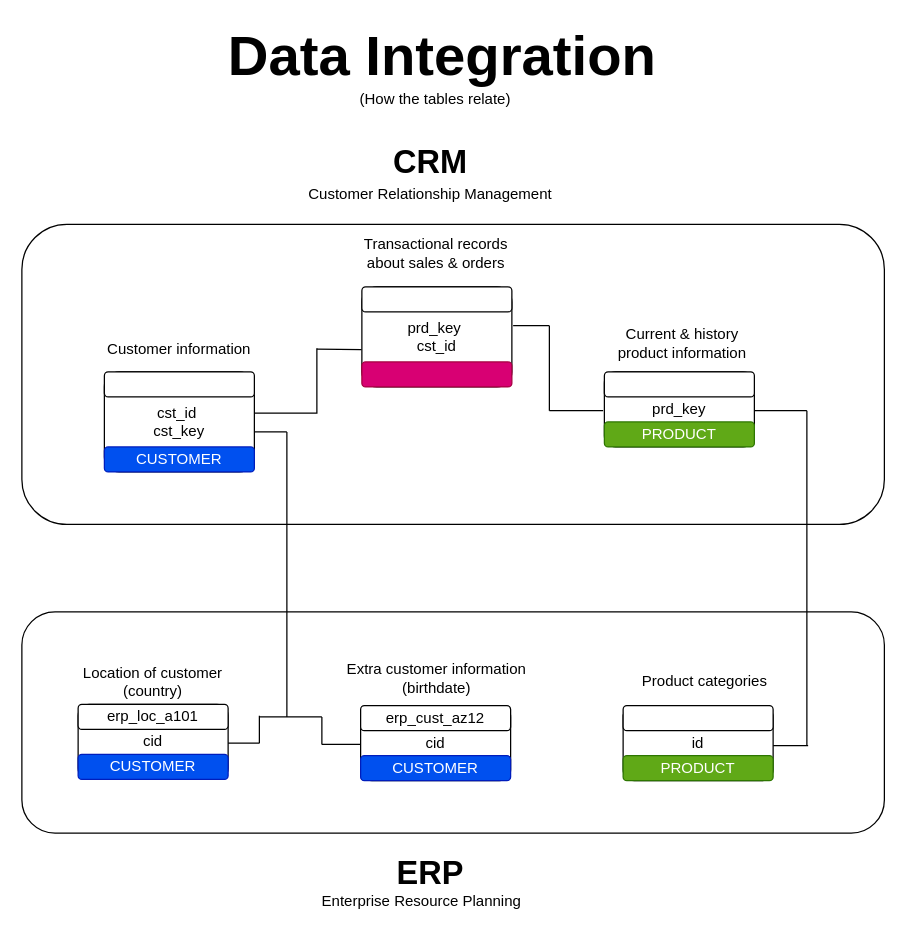
The diagram is 906 pixels wide and 941 high, and some of its shapes have lost their labels. Each missing label, with the centre of its shape:
"crm_cust_info" belongs at (178,384).
"crm_prd_info" belongs at (678,384).
"crm_sales_details" belongs at (436,299).
"erp_px_cat_g1v2" belongs at (697,717).
"SALES" belongs at (436,374).
